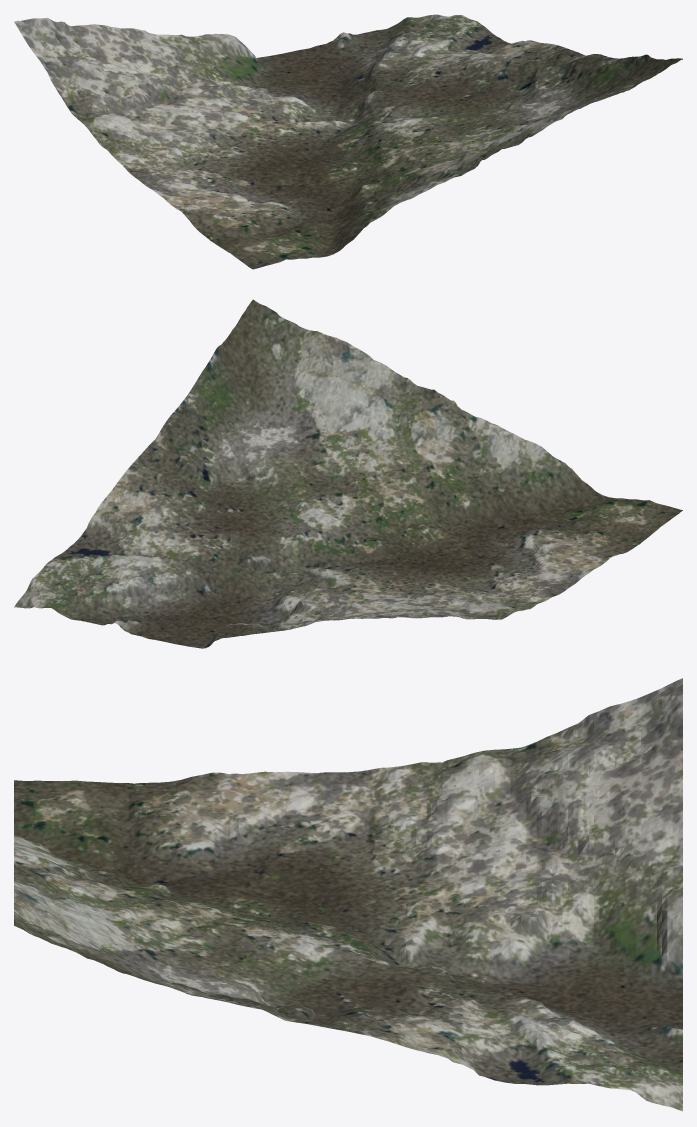
3 views of the same model, one above another, from view 1: azimuth 30°, elevation 25°; view 2: azimuth 150°, elevation 25°; view 3: azimuth 270°, elevation 25° (orthographic). The views are drawn at different scales.
Size of the model in its own units: 500 by 149 by 481.
Materials: 1 (1 with a texture image).
